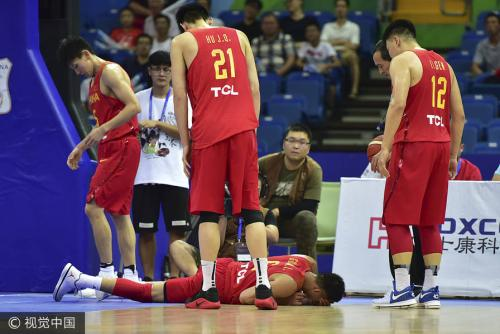10+: (44, 1, 500, 318)
down: (44, 242, 348, 317)
